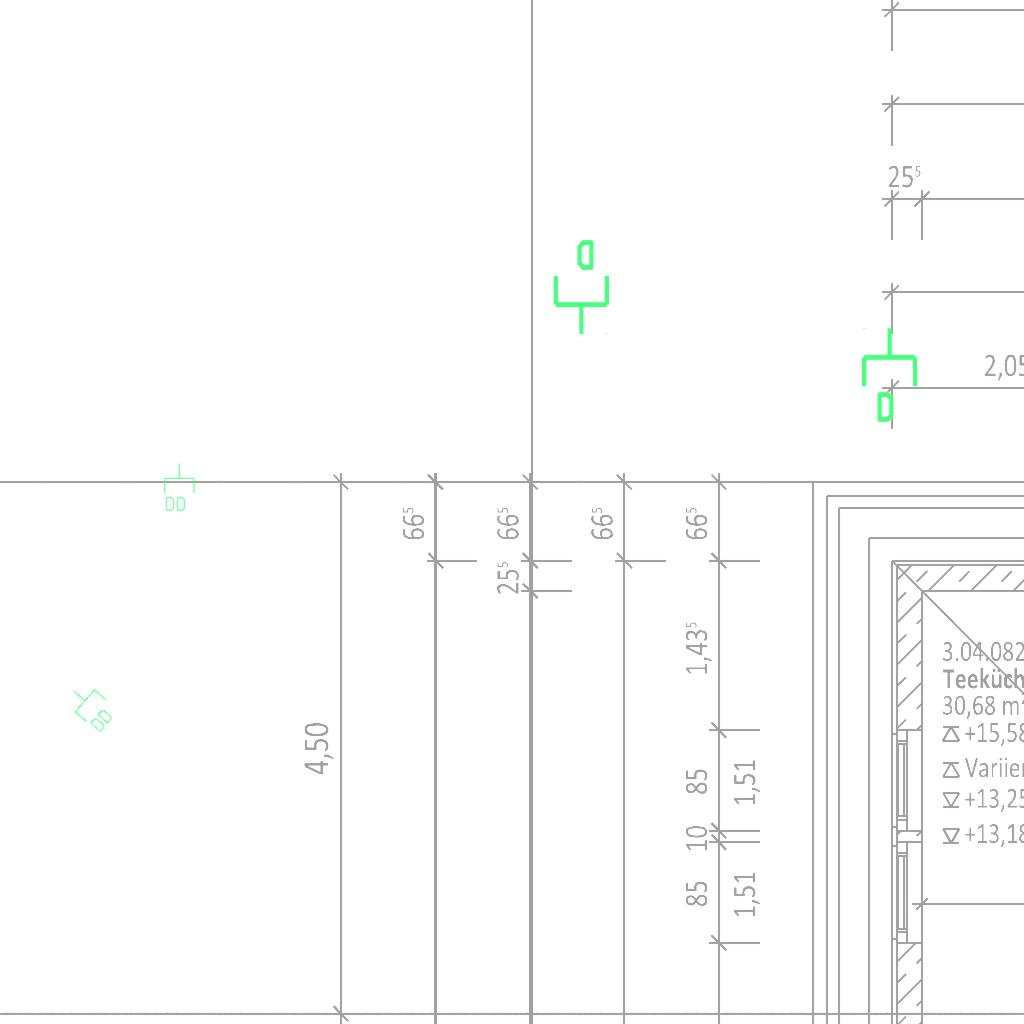Datenanschluss_einfach: (545, 237, 614, 337), (857, 325, 926, 425)
Datenanschluss_zweifach: (61, 677, 122, 737), (162, 462, 196, 513)
